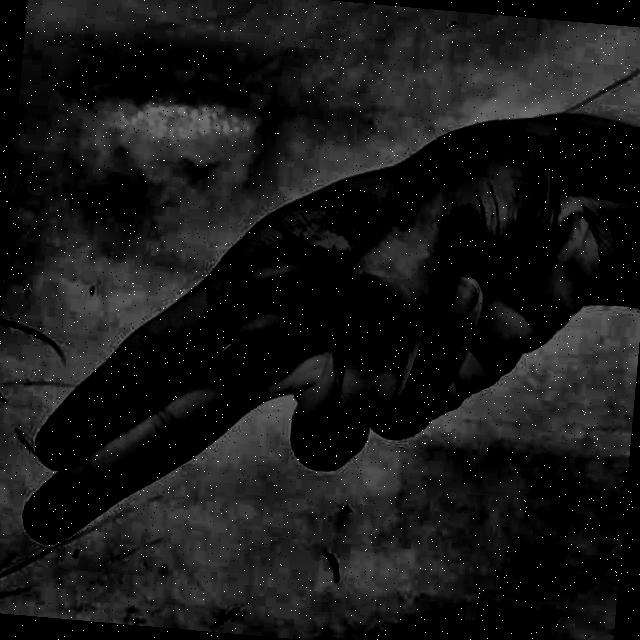Ha: (1, 48, 616, 630)
